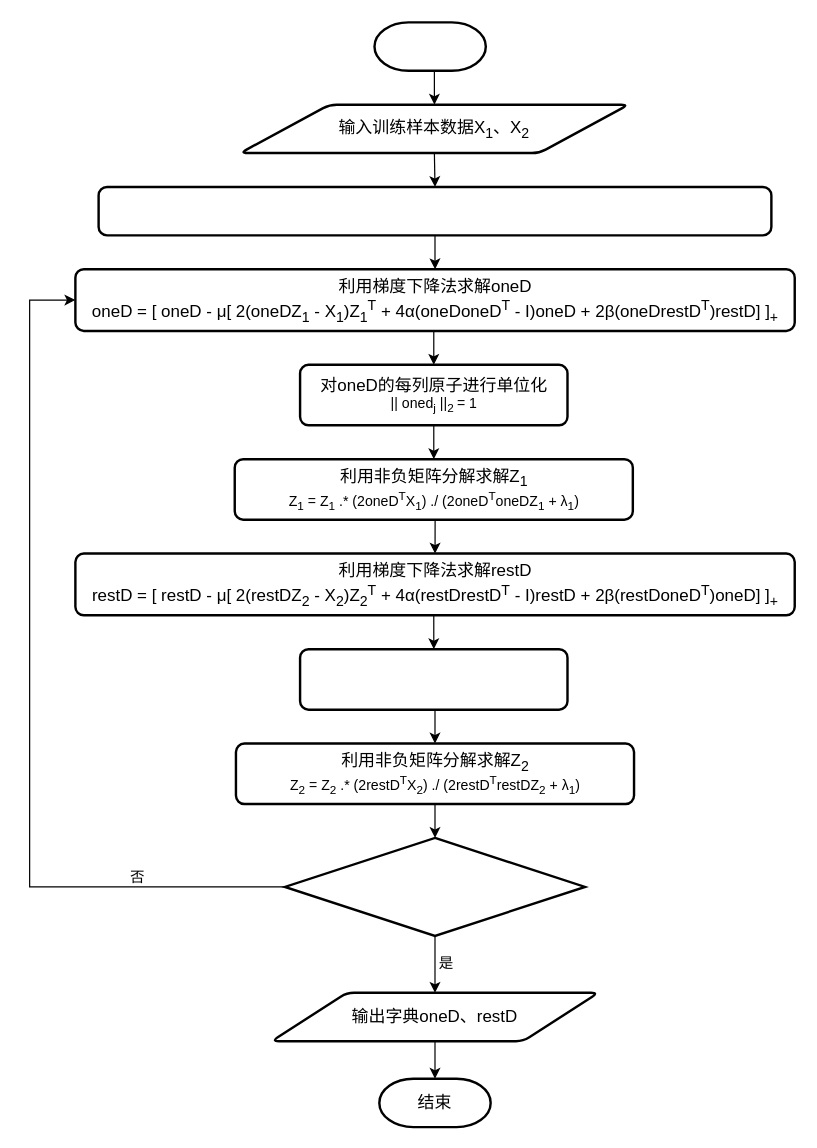
The diagram is 817 pixels wide and 1148 high, and some of its shapes have lost their labels. Here are the shapes that lost their labels. From the top down, the centre of each, then its label:
At [429,46]: "开始".
At [434,210]: "初始化正则化参数λ 1 、α、β，梯度下降步长μ，字典oneD、restD，稀疏表示Z 1 、Z 2".
At [433,678]: "对restD的每列原子进行单位化 || restd j || 2 = 1".
At [434,886]: "是否满足迭代退出条件 目标函数变化率<10 -5".
